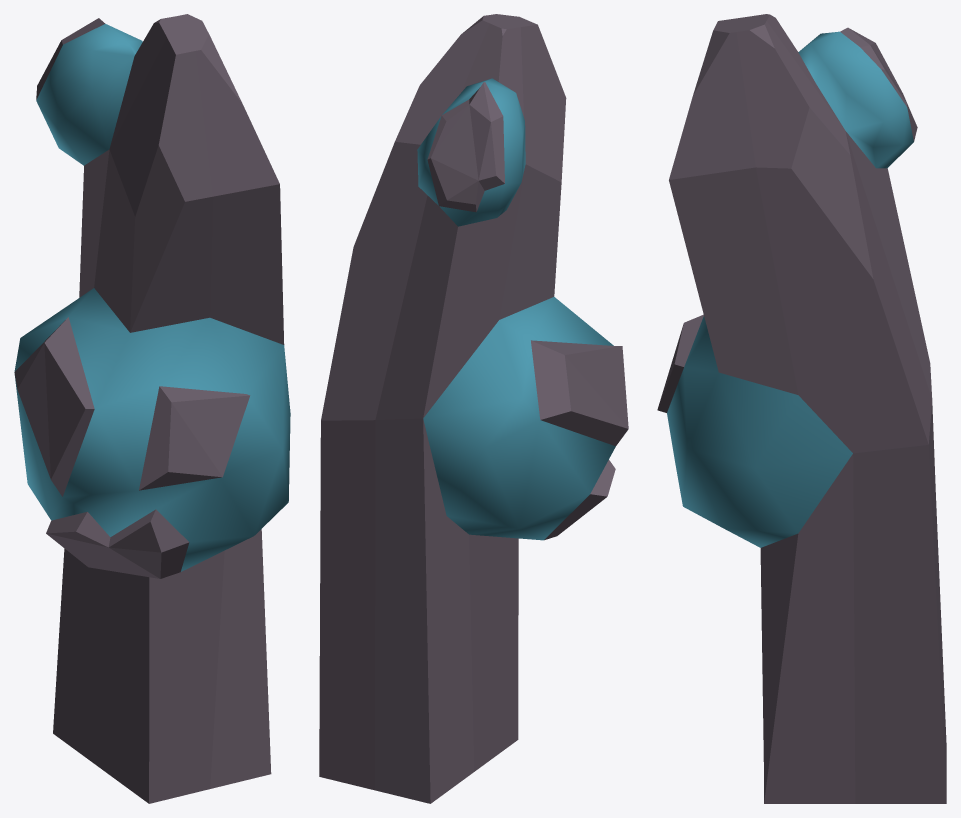
The model's file is Stone_Pik_Magik.fbx.
The picture shows the model from 3 angles, left to right: view 1: azimuth 30°, elevation 25°; view 2: azimuth 150°, elevation 25°; view 3: azimuth 270°, elevation 25°; orthographic projection. The views are drawn at different scales.
Parts seen in each view (by area): view 1: Stone_Pik_Magik; view 2: Stone_Pik_Magik; view 3: Stone_Pik_Magik.
Part boxes in pixels (<box>): Stone_Pik_Magik: <box>14,14,290,803</box>; Stone_Pik_Magik: <box>319,14,628,803</box>; Stone_Pik_Magik: <box>657,14,946,803</box>.
Size of the model in its own units: 2.58 by 7.79 by 2.76.
